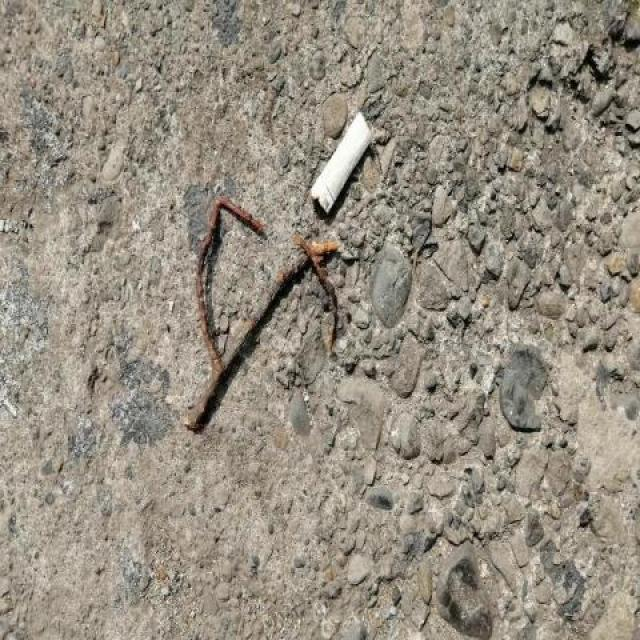non-organic waste: (308, 108, 379, 224)
